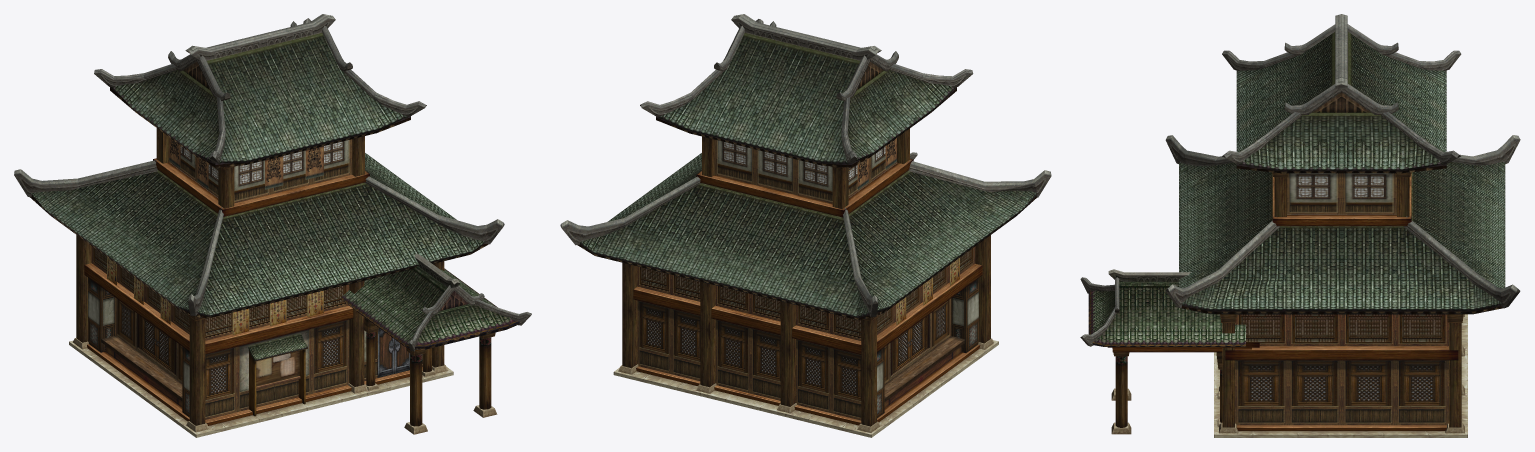
File: c1-011-workhouse.fbx
3 renders of one model, left to right at view 1: azimuth 30°, elevation 25°; view 2: azimuth 150°, elevation 25°; view 3: azimuth 270°, elevation 25°, orthographic.
Parts seen in each view (by area): view 1: Object02; view 2: Object02; view 3: Object02.
Part boxes in pixels (x1,y1,x2,y2): Object02: (14,14,531,437); Object02: (560,14,1051,437); Object02: (1080,14,1520,437).
Size of the model in its own units: 13.67 by 13.55 by 16.44.
